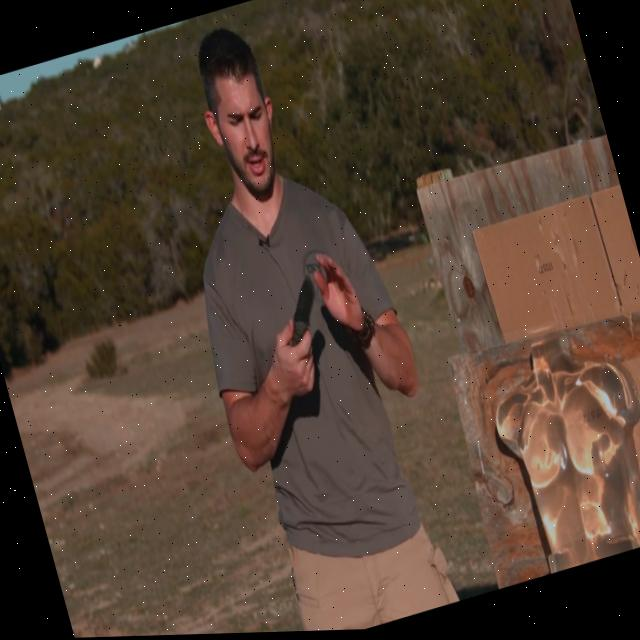knife: (277, 274, 328, 345)
